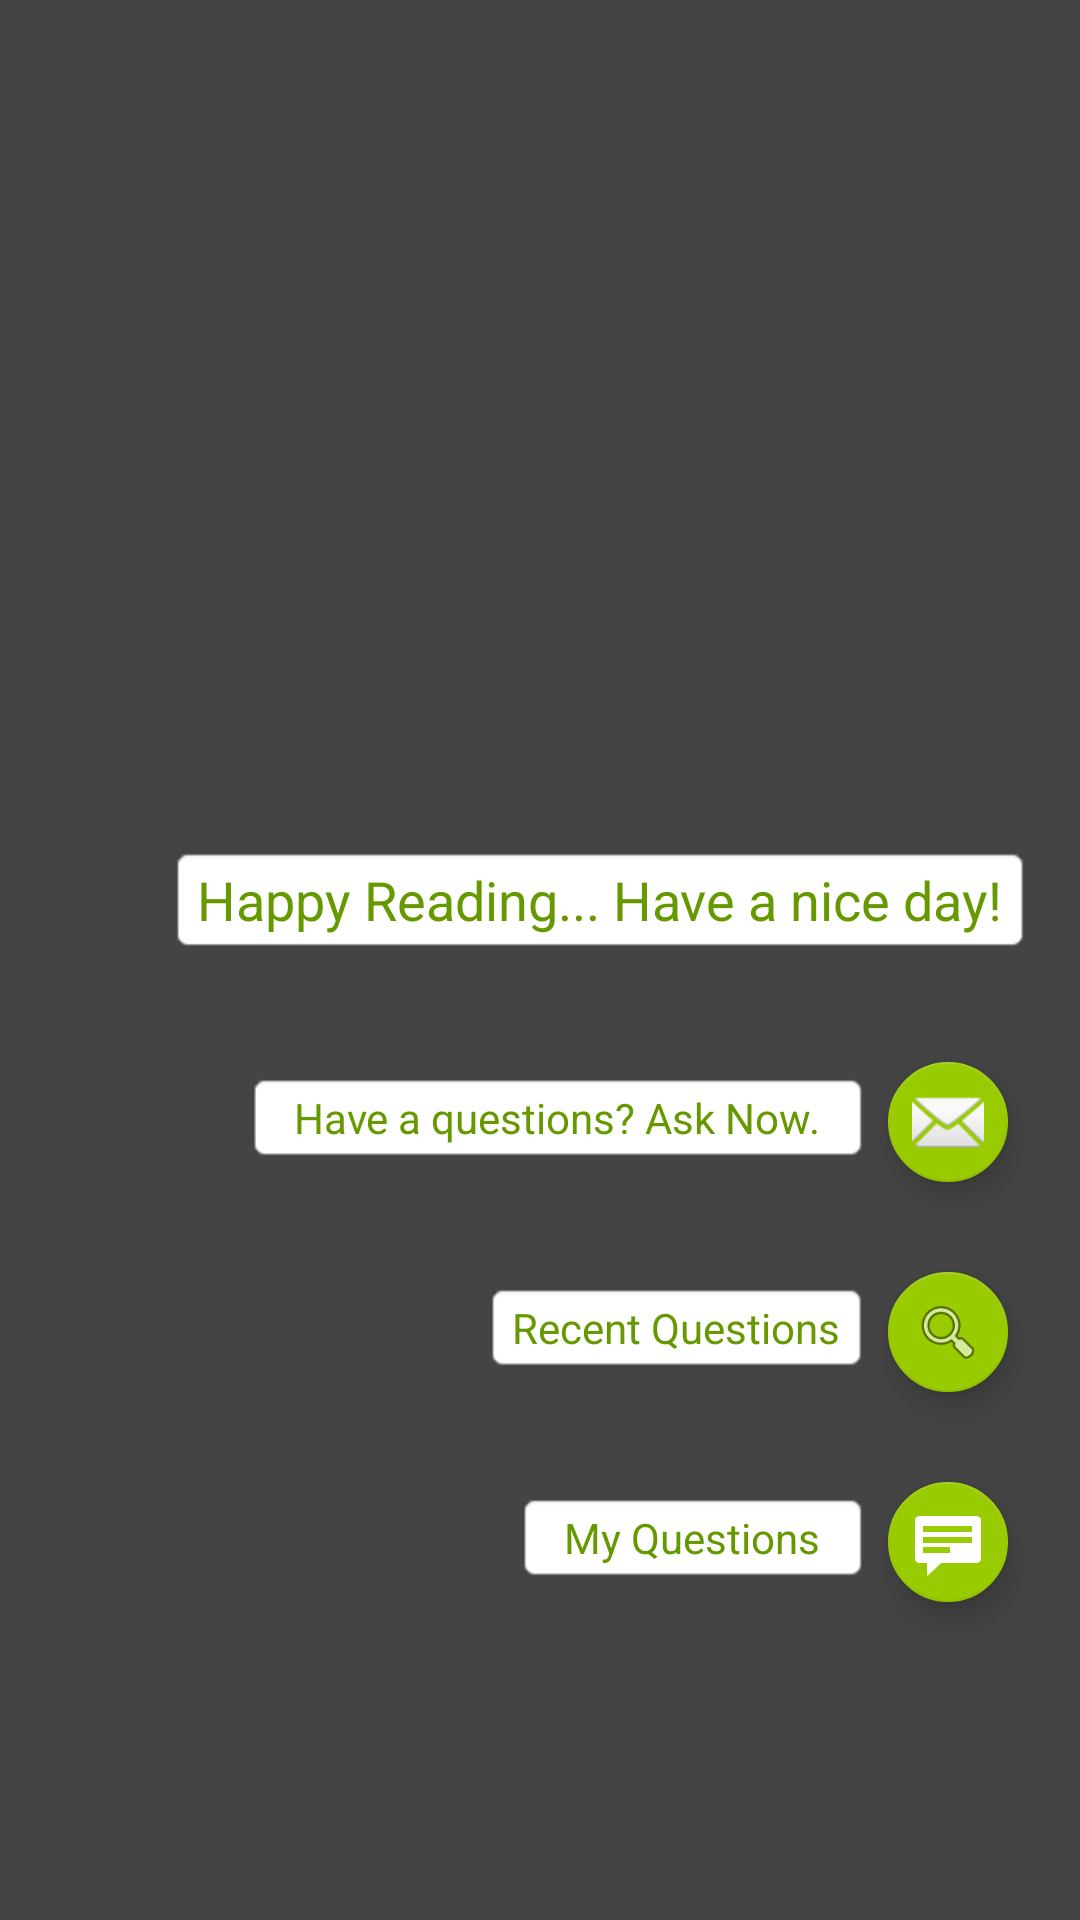

Screen size 1080*1920. Icon name, then its box in pixels as (left=x1, top=y1, right=x2, bottom=y2):
chat: (left=888, top=1482, right=1008, bottom=1602)
email: (left=888, top=1062, right=1008, bottom=1182)
search: (left=888, top=1272, right=1008, bottom=1392)
